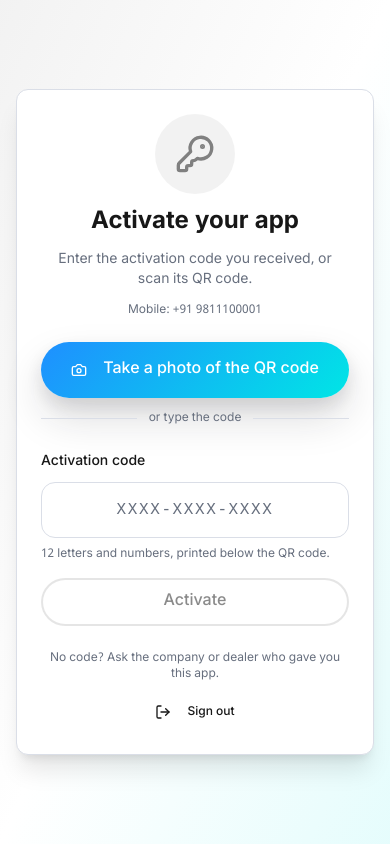
Test: Activate › explains a refusal (activation_capacity_full) and stays on the screen
Check: the button "Activate" is shown, box [41, 578, 349, 626]
Type "7K2M-9PQR-4T8X" into the field labelled "Activation code" at (195,510), box [41, 482, 349, 538]
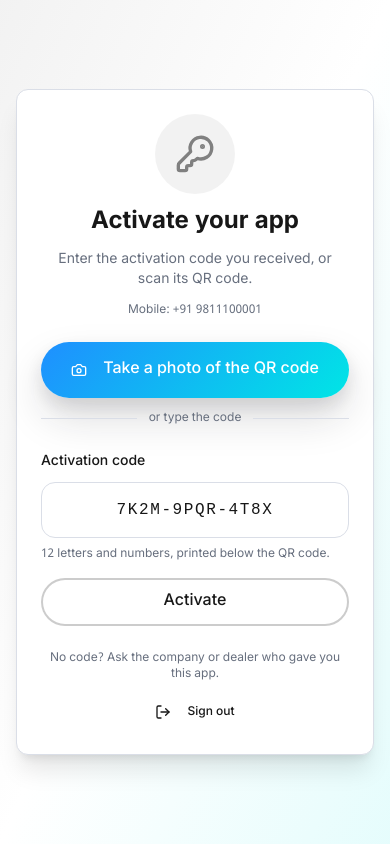
Check: the button "Activate" is enabled
Click the button "Activate" at (195,602), box [41, 578, 349, 626]
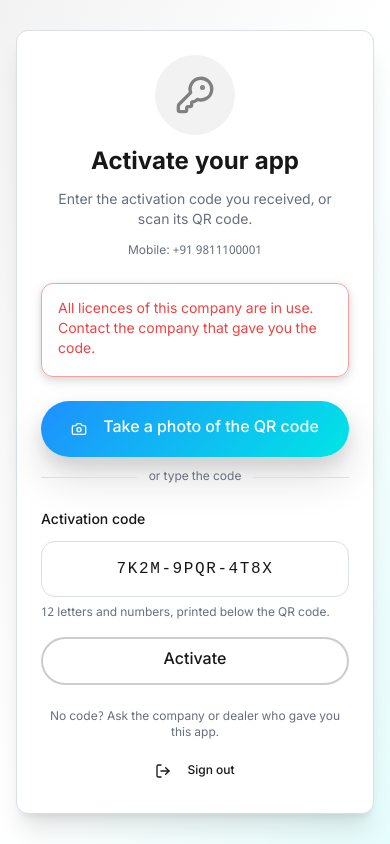
Check: the message shows "All licences of this company are in use. Contact the company that gave you the code.", box [58, 300, 317, 359]
